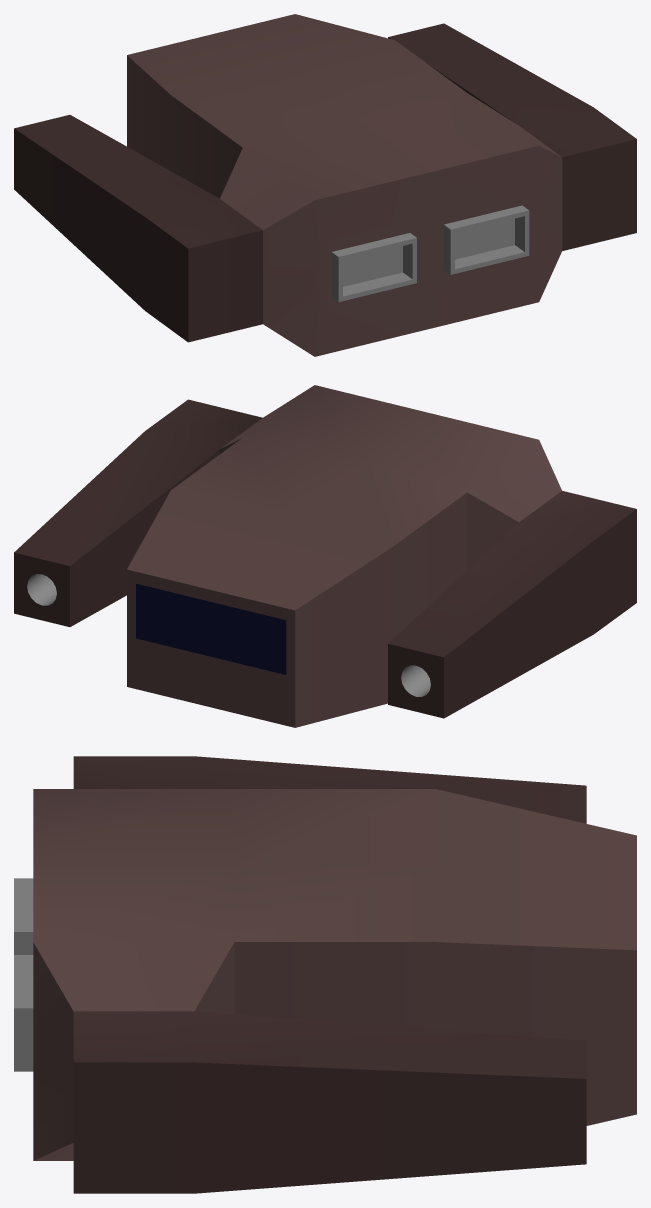
The model's file is Enemy_Fighter.fbx.
3 renders of one model, top to bottom at view 1: azimuth 30°, elevation 25°; view 2: azimuth 150°, elevation 25°; view 3: azimuth 270°, elevation 25°, orthographic. The views are drawn at different scales.
Visible parts, largest first — view 1: Cube; view 2: Cube, Cylinder_1, Cylinder; view 3: Cube.
Boxes of the visible parts, box(x1,y1,x2,y2) form: Cube: box(14, 14, 636, 356); Cube: box(14, 385, 636, 727); Cylinder_1: box(401, 665, 430, 696); Cylinder: box(27, 574, 56, 605); Cube: box(14, 756, 636, 1193).
Size of the model in its own units: 120 by 40 by 103.
